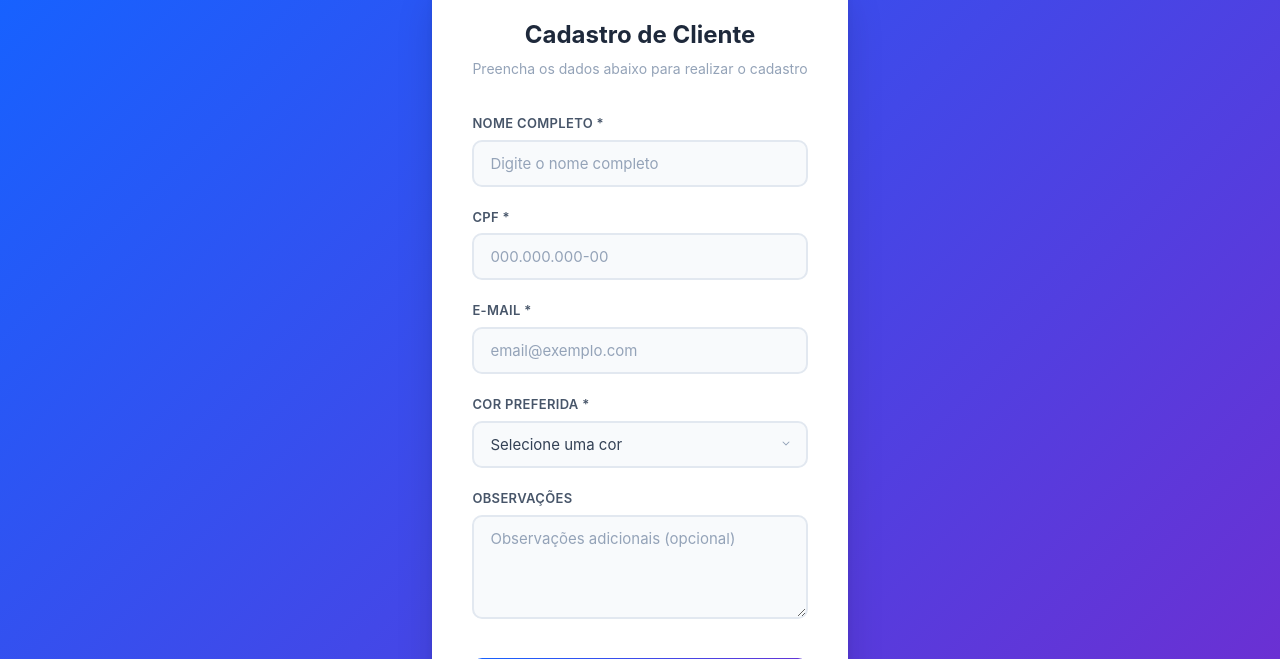
ClientForm › shows connection error on network failure
Type "João da Silva" into the field labelled "Nome completo *" at (640, 163), box [472,140,808,187]
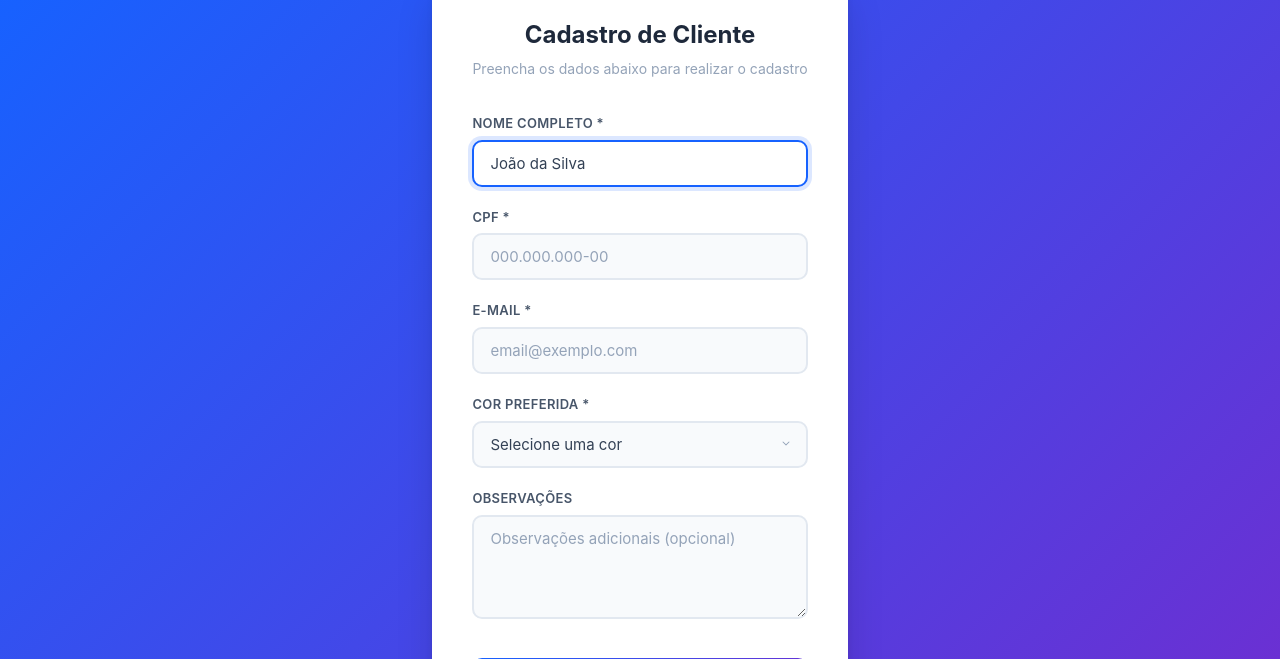
Type "52998224725" into the field labelled "CPF *" at (640, 257), box [472,233,808,280]
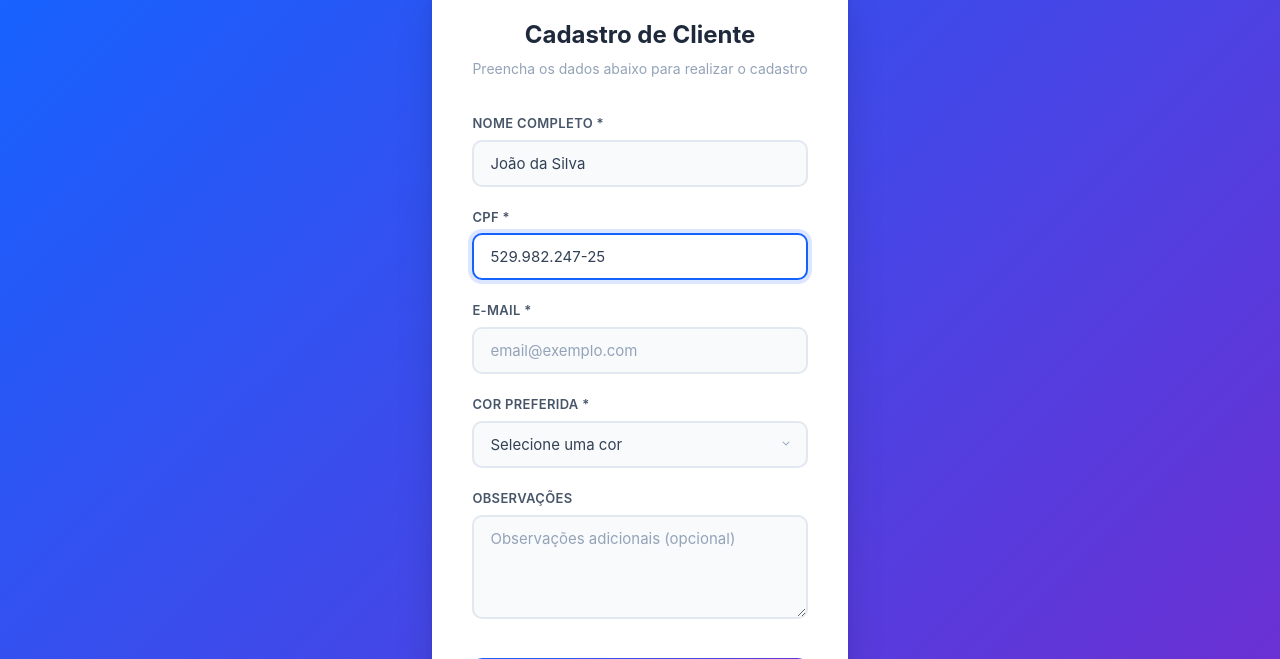
Type "joao@example.com" into the field labelled "E-mail *" at (640, 351), box [472,327,808,374]
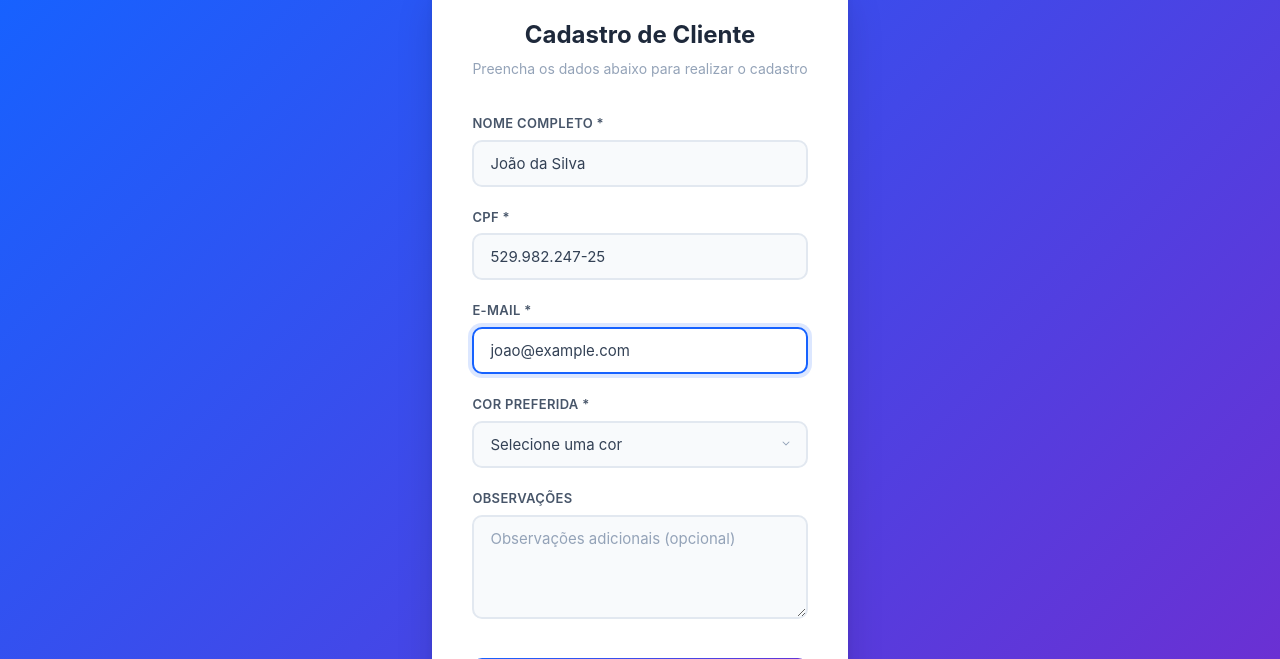
Select "Azul" in the dropdown labelled "Cor preferida *" at (640, 444), box [472,421,808,468]
(page scrolled)
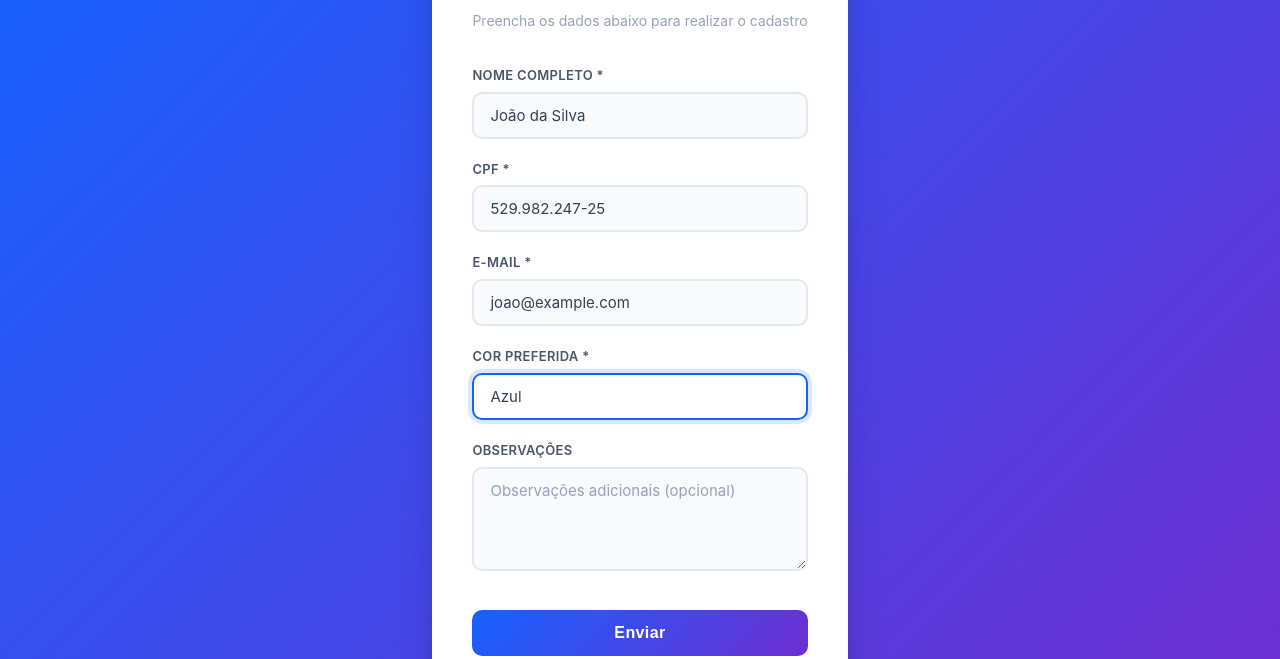
Click the button "Enviar" at (640, 633), box [472,610,808,656]
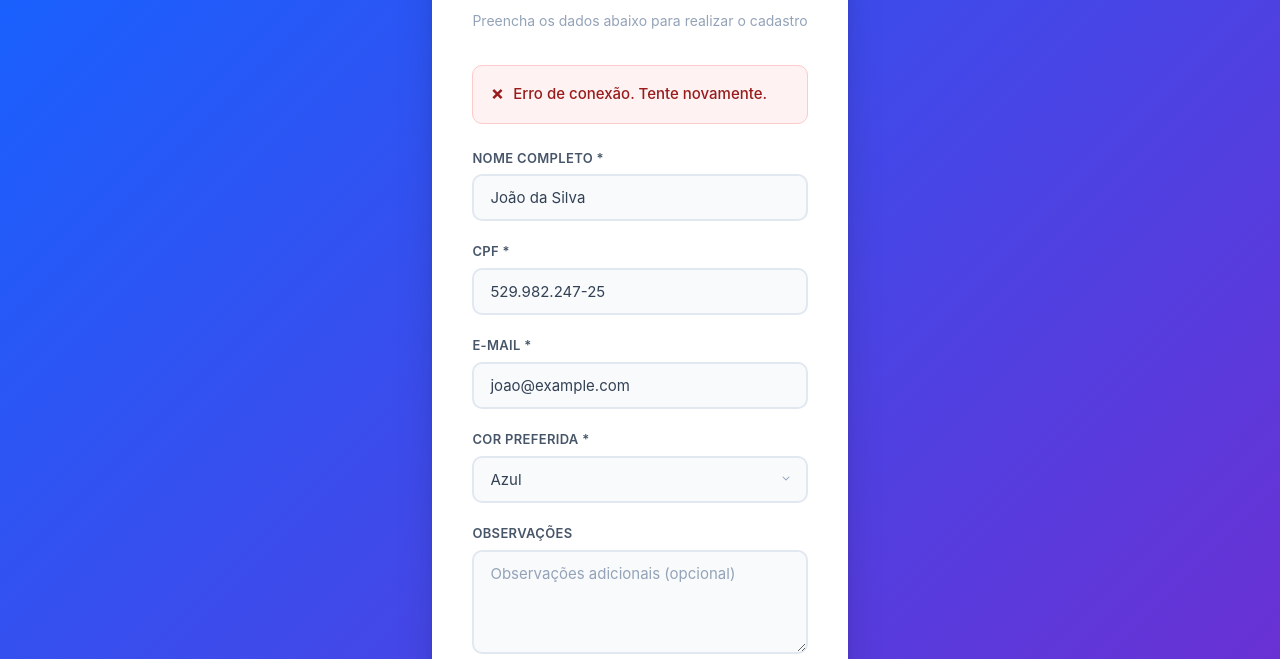
Now the text "Erro de conexão. Tente novamente." is shown, box [472,65,808,124]
